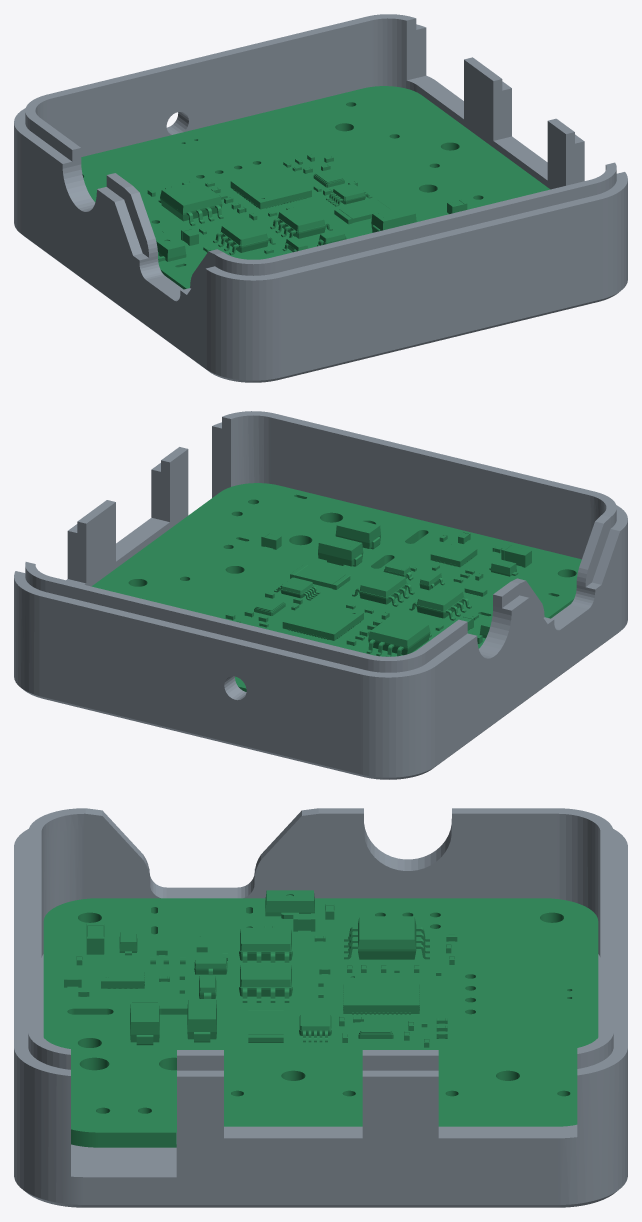
File: fit_open.glb
3 views of the same model, one above another, from view 1: azimuth 30°, elevation 25°; view 2: azimuth 150°, elevation 25°; view 3: azimuth 270°, elevation 25° (orthographic). The views are drawn at different scales.
Visible parts, largest first — view 1: /PocketPD_1_3_ScrewTerm, /board_1/PocketPD_PCB, /board_1/SOIC-8_3_9x4_9mm_P1_27mm/SOIC-8_3_9x4_9mm_P1_27mm (×2), /board_1/QFN-56-1EP_7x7mm_P0_4mm_EP3_2x3_2mm/QFN-56-1EP_7x7m, /board_1/SOIC-8_5_3x5_3mm_P1_27mm/SOIC-8_5_3x5_3mm_P1_27mm, /board_1/D_SMA/D_SMA, /board_1/R_2512_6332Metric/R_2512_6332Metric, /board_1/SOT-89-3/CQ_assembly/adbeea56-9c39-11ed-93f0-dde97e, /board_1/MSOP-10_3x3mm_P0_5mm/MSOP-10_3x3mm_P0_5mm; view 2: /PocketPD_1_3_ScrewTerm, /board_1/PocketPD_PCB, /board_1/SOIC-8_3_9x4_9mm_P1_27mm/SOIC-8_3_9x4_9mm_P1_27mm (×2), /board_1/D_SMA/D_SMA (×2), /board_1/QFN-56-1EP_7x7mm_P0_4mm_EP3_2x3_2mm/QFN-56-1EP_7x7m, /board_1/SOIC-8_5_3x5_3mm_P1_27mm/SOIC-8_5_3x5_3mm_P1_27mm, /board_1/R_2512_6332Metric/R_2512_6332Metric, /board_1/QFN-24-1EP_4x4mm_P0_5mm_EP2_7x2_7mm/QFN-24-1EP_4x4m, /board_1/MSOP-10_3x3mm_P0_5mm/MSOP-10_3x3mm_P0_5mm, /board_1/C_1206_3216Metric/C_1206_3216Metric; view 3: /PocketPD_1_3_ScrewTerm, /board_1/PocketPD_PCB, /board_1/SOIC-8_3_9x4_9mm_P1_27mm/SOIC-8_3_9x4_9mm_P1_27mm (×2), /board_1/QFN-56-1EP_7x7mm_P0_4mm_EP3_2x3_2mm/QFN-56-1EP_7x7m, /board_1/SOIC-8_5_3x5_3mm_P1_27mm/SOIC-8_5_3x5_3mm_P1_27mm, /board_1/D_SMA/D_SMA (×2), /board_1/R_2512_6332Metric/R_2512_6332Metric, /board_1/SOT-89-3/CQ_assembly/adbeea56-9c39-11ed-93f0-dde97e, /board_1/QFN-24-1EP_4x4mm_P0_5mm_EP2_7x2_7mm/QFN-24-1EP_4x4m, /board_1/MSOP-10_3x3mm_P0_5mm/MSOP-10_3x3mm_P0_5mm, /board_1/Crystal_SMD_3225-4Pin_3_2x2_5mm/Crystal_SMD_3225-4P, /board_1/C_1206_3216Metric/C_1206_3216Metric (+1 smaller).
Boxes of the visible parts, x1,y1,x2,y2 form: /PocketPD_1_3_ScrewTerm: [14, 14, 627, 382]; /board_1/PocketPD_PCB: [81, 86, 550, 289]; /board_1/SOIC-8_3_9x4_9mm_P1_27mm/SOIC-8_3_9x4_9mm_P1_27mm (×2): [213, 205, 332, 255]; /board_1/QFN-56-1EP_7x7mm_P0_4mm_EP3_2x3_2mm/QFN-56-1EP_7x7m: [230, 168, 311, 209]; /board_1/SOIC-8_5_3x5_3mm_P1_27mm/SOIC-8_5_3x5_3mm_P1_27mm: [158, 181, 223, 225]; /board_1/D_SMA/D_SMA: [371, 206, 416, 232]; /board_1/R_2512_6332Metric/R_2512_6332Metric: [334, 198, 393, 224]; /board_1/SOT-89-3/CQ_assembly/adbeea56-9c39-11ed-93f0-dde97e: [154, 232, 186, 261]; /board_1/MSOP-10_3x3mm_P0_5mm/MSOP-10_3x3mm_P0_5mm: [326, 183, 372, 206]; /PocketPD_1_3_ScrewTerm: [14, 411, 627, 779]; /board_1/PocketPD_PCB: [91, 483, 581, 691]; /board_1/SOIC-8_3_9x4_9mm_P1_27mm/SOIC-8_3_9x4_9mm_P1_27mm (×2): [352, 571, 471, 620]; /board_1/D_SMA/D_SMA (×2): [318, 517, 380, 566]; /board_1/QFN-56-1EP_7x7mm_P0_4mm_EP3_2x3_2mm/QFN-56-1EP_7x7m: [282, 600, 363, 640]; /board_1/SOIC-8_5_3x5_3mm_P1_27mm/SOIC-8_5_3x5_3mm_P1_27mm: [366, 615, 431, 656]; /board_1/R_2512_6332Metric/R_2512_6332Metric: [290, 564, 350, 589]; /board_1/QFN-24-1EP_4x4mm_P0_5mm_EP2_7x2_7mm/QFN-24-1EP_4x4m: [430, 542, 477, 567]; /board_1/MSOP-10_3x3mm_P0_5mm/MSOP-10_3x3mm_P0_5mm: [274, 577, 320, 600]; /board_1/C_1206_3216Metric/C_1206_3216Metric: [501, 544, 531, 567]; /PocketPD_1_3_ScrewTerm: [14, 808, 627, 1207]; /board_1/PocketPD_PCB: [43, 898, 598, 1147]; /board_1/SOIC-8_3_9x4_9mm_P1_27mm/SOIC-8_3_9x4_9mm_P1_27mm (×2): [239, 927, 292, 1002]; /board_1/QFN-56-1EP_7x7mm_P0_4mm_EP3_2x3_2mm/QFN-56-1EP_7x7m: [343, 973, 419, 1014]; /board_1/SOIC-8_5_3x5_3mm_P1_27mm/SOIC-8_5_3x5_3mm_P1_27mm: [344, 916, 429, 959]; /board_1/D_SMA/D_SMA (×2): [130, 999, 216, 1045]; /board_1/R_2512_6332Metric/R_2512_6332Metric: [248, 1008, 283, 1042]; /board_1/SOT-89-3/CQ_assembly/adbeea56-9c39-11ed-93f0-dde97e: [265, 890, 314, 916]; /board_1/QFN-24-1EP_4x4mm_P0_5mm_EP2_7x2_7mm/QFN-24-1EP_4x4m: [101, 962, 144, 988]; /board_1/MSOP-10_3x3mm_P0_5mm/MSOP-10_3x3mm_P0_5mm: [299, 1013, 331, 1042]; /board_1/Crystal_SMD_3225-4Pin_3_2x2_5mm/Crystal_SMD_3225-4P: [358, 1021, 393, 1038]; /board_1/C_1206_3216Metric/C_1206_3216Metric: [86, 923, 104, 954].
Bounding box in the file's own units: 0.0558 × 0.0149 × 0.0558.
